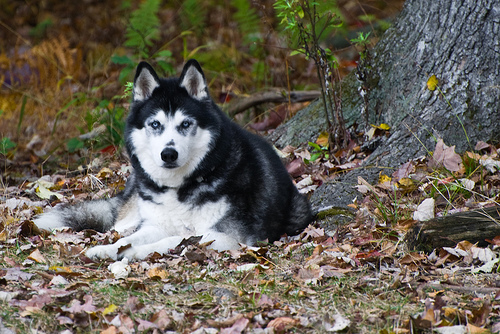dog: (14, 56, 311, 260)
